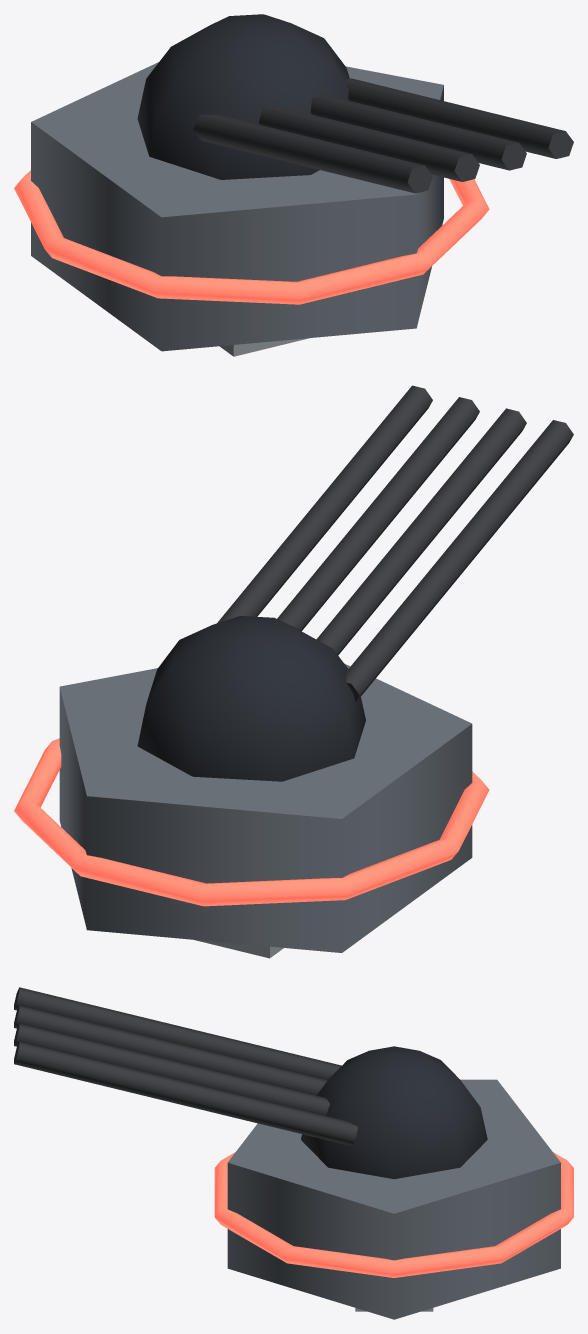
The model's file is space_orbital_battery_t3_lod1.glb.
The picture shows the model from 3 angles, top to bottom: view 1: azimuth 30°, elevation 25°; view 2: azimuth 150°, elevation 25°; view 3: azimuth 270°, elevation 25°; orthographic projection. The views are drawn at different scales.
Parts seen in each view (by area): view 1: body, turret; view 2: body, turret; view 3: body, turret.
Part boxes in pixels (box(x1,y1,x2,y2)): body: box(14, 62, 489, 356); turret: box(137, 14, 573, 193); body: box(14, 664, 489, 958); turret: box(137, 385, 573, 781); body: box(214, 1079, 573, 1319); turret: box(14, 987, 487, 1179).
Size of the model in its own units: 9.7 by 7.88 by 14.37.
